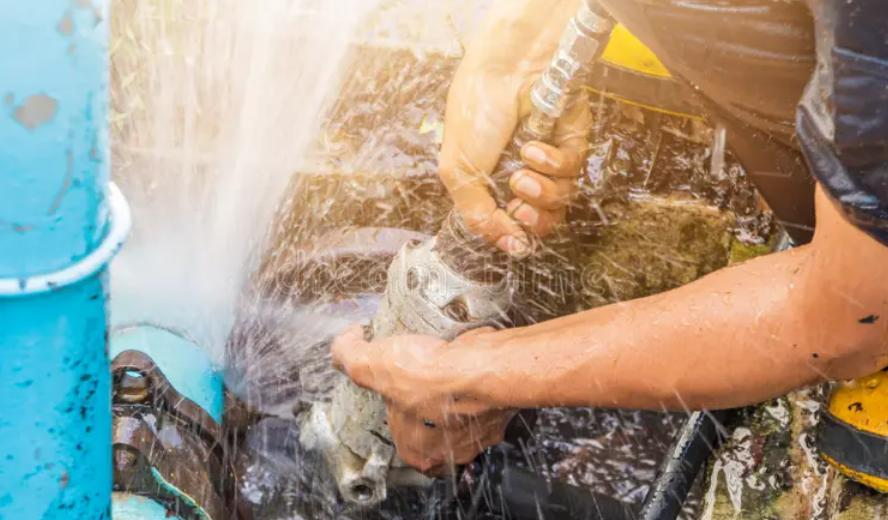pipe burst: (107, 0, 373, 397)
